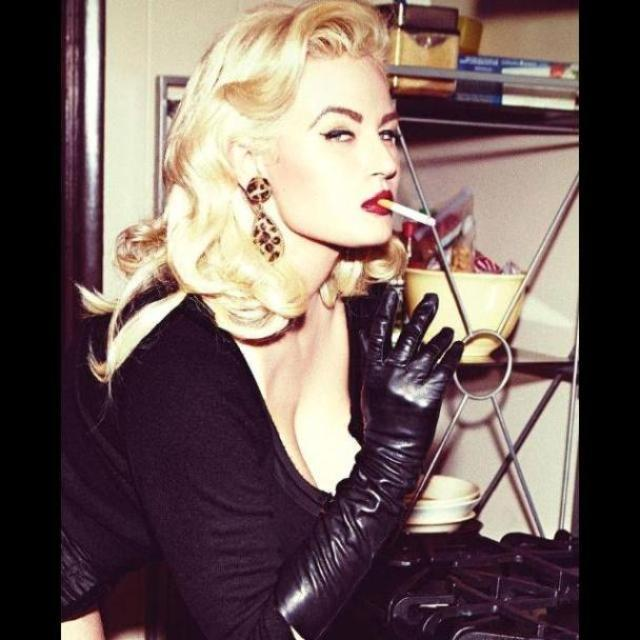rokok: (372, 191, 442, 233)
